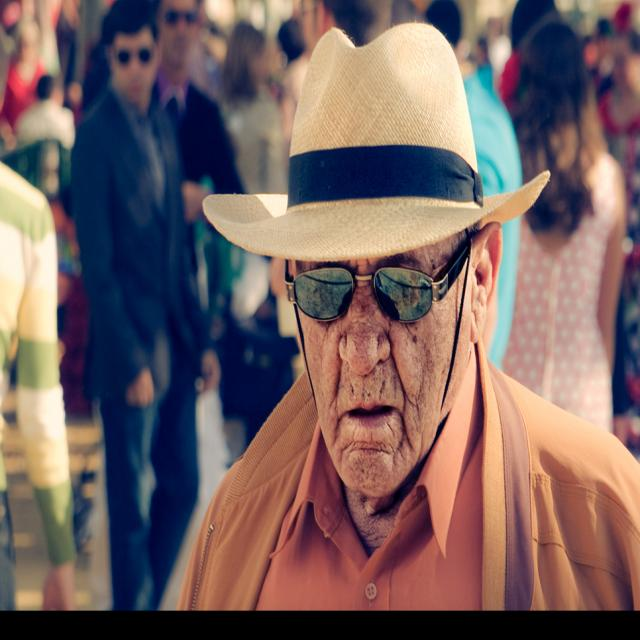Glasses: (276, 220, 484, 324), (107, 44, 156, 72), (160, 9, 202, 29)
